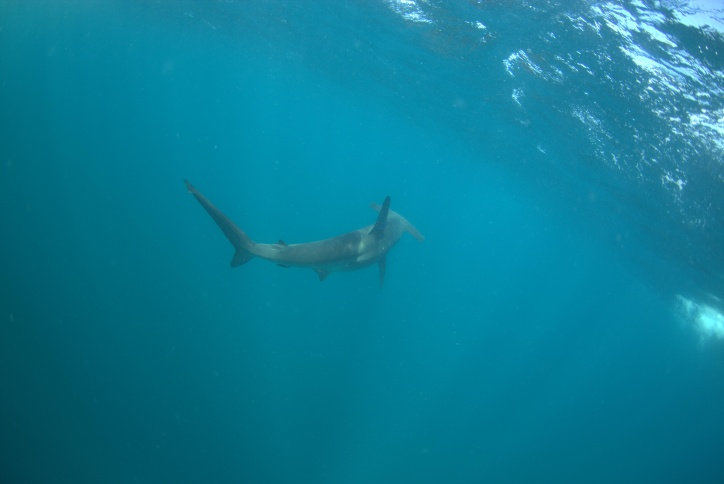Hammer: (149, 164, 451, 312)
